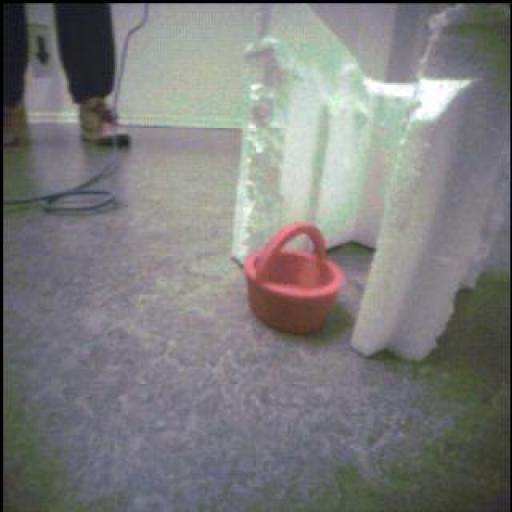Arrow: (36, 36, 51, 65)
Bucket: (244, 224, 347, 336)
